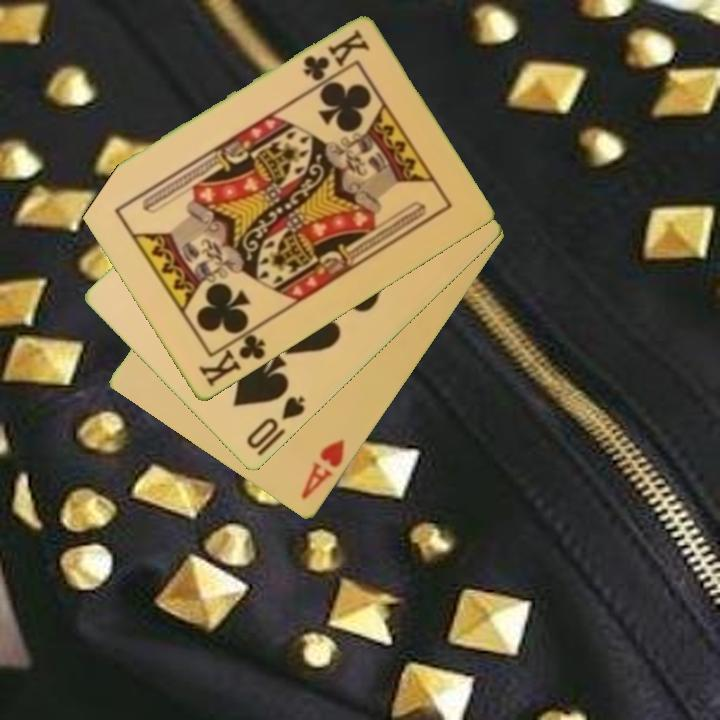10s: (243, 392, 308, 453)
Ah: (297, 436, 348, 503)
Kc: (195, 324, 269, 391), (299, 26, 372, 85)
